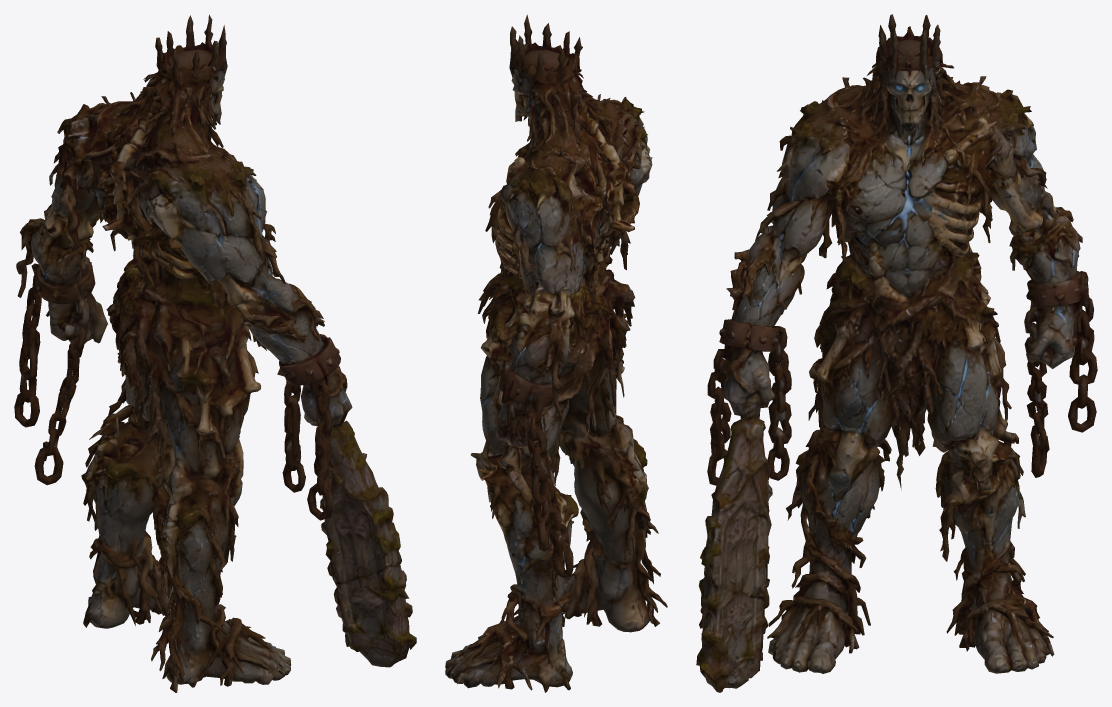
The model's file is Hurm-tripo.glb.
3 renders of one model, left to right at view 1: azimuth 30°, elevation 25°; view 2: azimuth 150°, elevation 25°; view 3: azimuth 270°, elevation 25°, orthographic. The views are drawn at different scales.
Visible parts, largest first — view 1: tripo_node_da914ed2-4fc4-4131-b4ad-5030ca65d052; view 2: tripo_node_da914ed2-4fc4-4131-b4ad-5030ca65d052; view 3: tripo_node_da914ed2-4fc4-4131-b4ad-5030ca65d052.
Part boxes in pixels (<box>): tripo_node_da914ed2-4fc4-4131-b4ad-5030ca65d052: <box>14,14,416,692</box>; tripo_node_da914ed2-4fc4-4131-b4ad-5030ca65d052: <box>445,14,667,692</box>; tripo_node_da914ed2-4fc4-4131-b4ad-5030ca65d052: <box>696,14,1097,692</box>.
Size of the model in its own units: 0.375 by 1 by 0.5697.
Materials: 1 (1 with a texture image).
